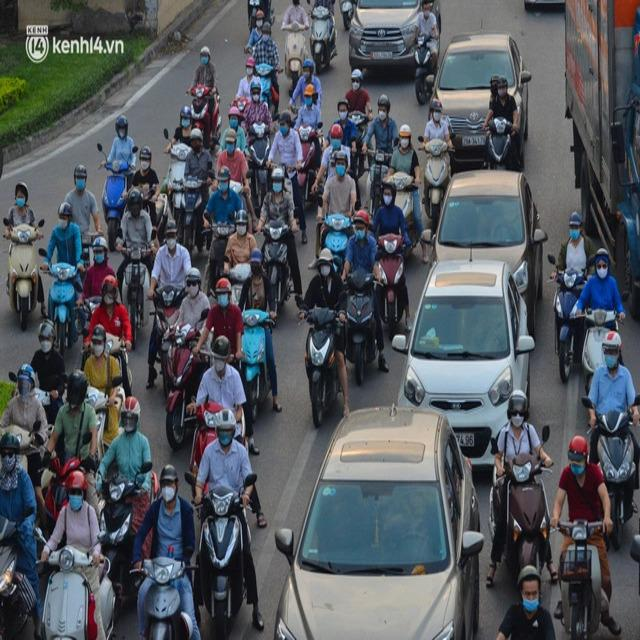car: (274, 403, 483, 640), (407, 253, 534, 469), (436, 166, 547, 318), (441, 34, 539, 168), (347, 0, 425, 79)
motorcycle: (186, 469, 264, 632), (488, 424, 550, 590), (578, 392, 640, 541), (37, 536, 113, 640), (555, 514, 616, 640), (128, 554, 203, 640), (154, 313, 200, 443), (570, 294, 628, 394), (340, 267, 388, 386), (546, 253, 589, 384), (299, 305, 344, 429), (238, 306, 285, 422), (94, 466, 138, 584), (372, 231, 415, 338), (95, 140, 135, 247), (115, 232, 152, 342), (4, 218, 39, 333), (41, 254, 80, 353), (42, 448, 90, 524), (255, 216, 292, 302), (414, 132, 450, 218), (173, 172, 206, 245), (315, 198, 350, 264), (186, 84, 222, 140), (409, 29, 433, 107), (294, 120, 317, 200), (308, 5, 337, 68), (249, 116, 270, 199), (161, 127, 186, 195), (280, 21, 305, 88), (485, 116, 516, 170), (360, 141, 384, 209)
